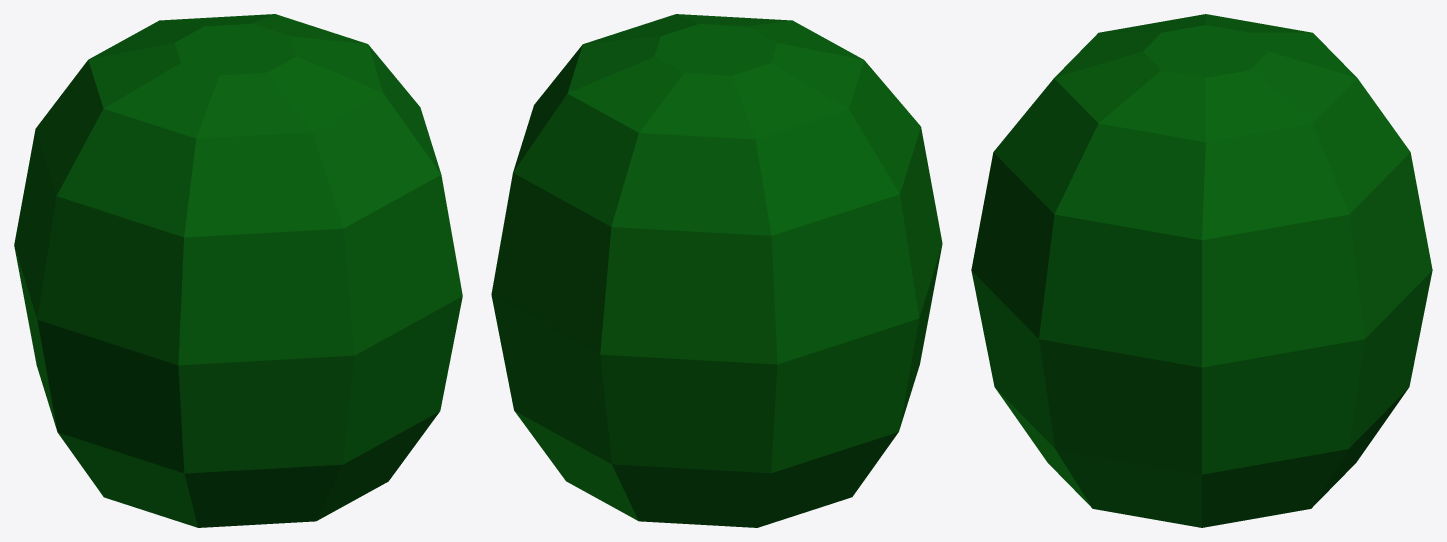
The model's file is watermelon01.obj.
The picture shows the model from 3 angles, left to right: view 1: azimuth 30°, elevation 25°; view 2: azimuth 150°, elevation 25°; view 3: azimuth 270°, elevation 25°; orthographic projection.
Parts seen in each view (by area): view 1: Cylinder; view 2: Cylinder; view 3: Cylinder.
Part boxes in pixels (bbox=[...]): Cylinder: bbox=[14, 14, 462, 527]; Cylinder: bbox=[491, 14, 942, 527]; Cylinder: bbox=[971, 14, 1432, 527].
Size of the model in its own units: 0.1946 by 0.2047 by 0.1946.
Materials: 1 (1 with a texture image).
